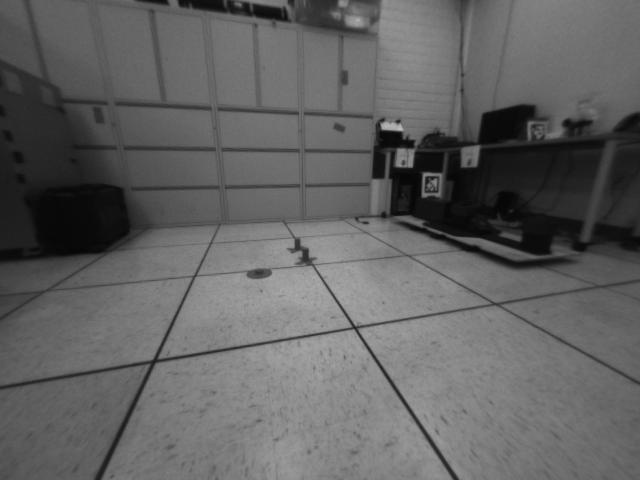X: (297, 248, 315, 265), (287, 238, 306, 253)
